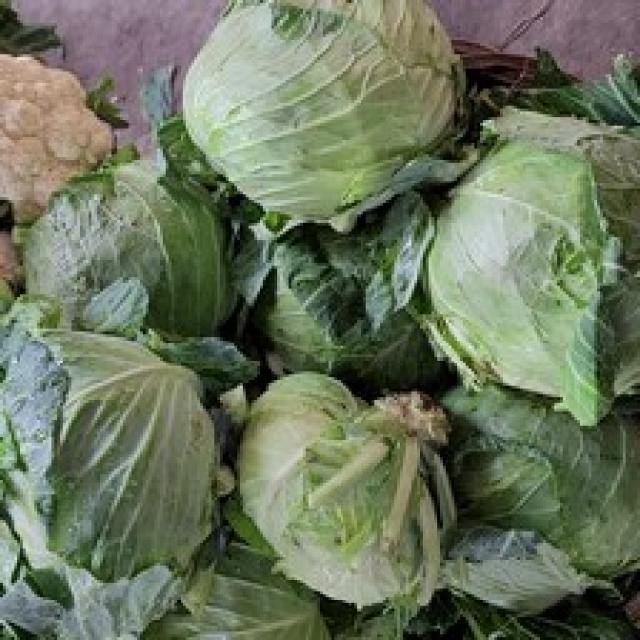Cabbage: (3, 143, 640, 640), (167, 0, 490, 214)
